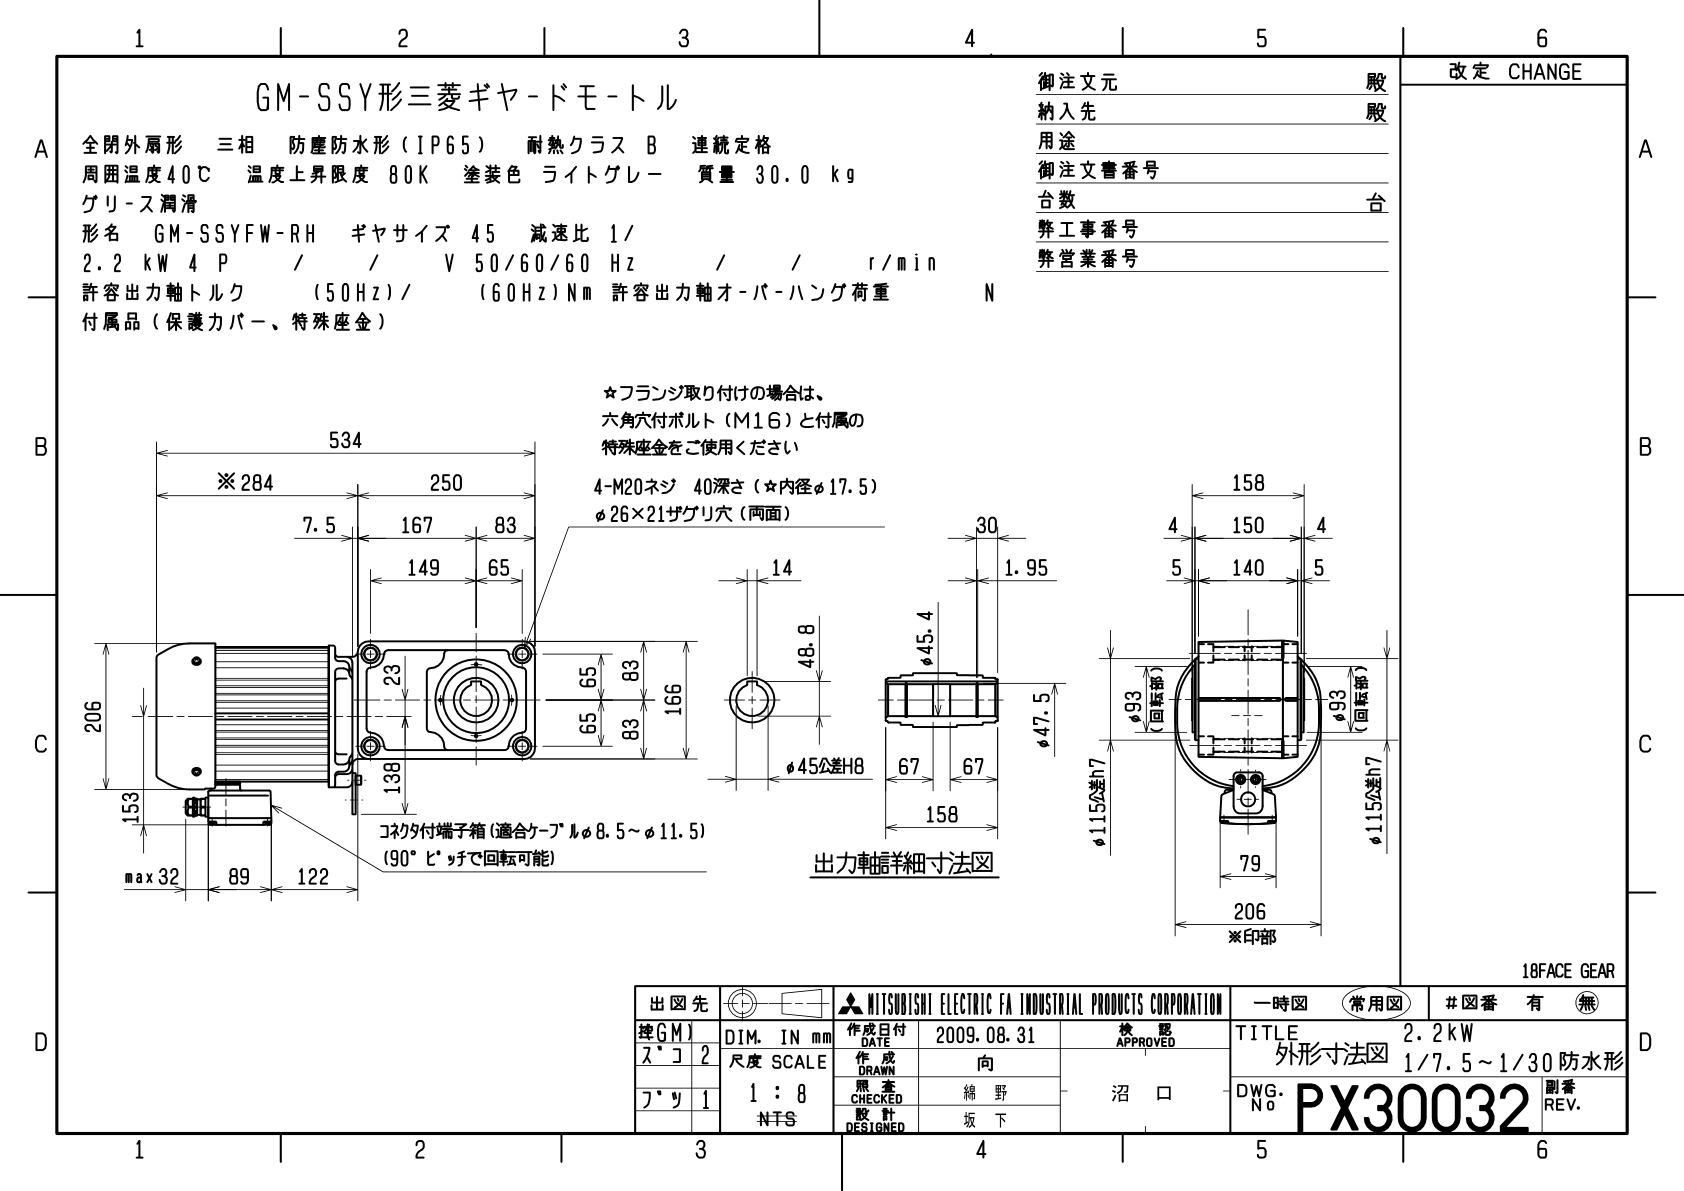GM_SSY_IP65_三相: (12, 13, 1684, 1191)
